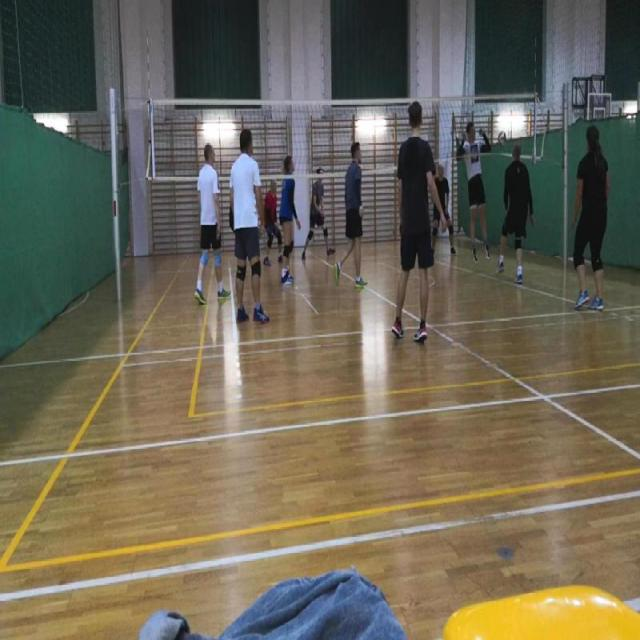volleyball: (497, 130, 506, 145)
